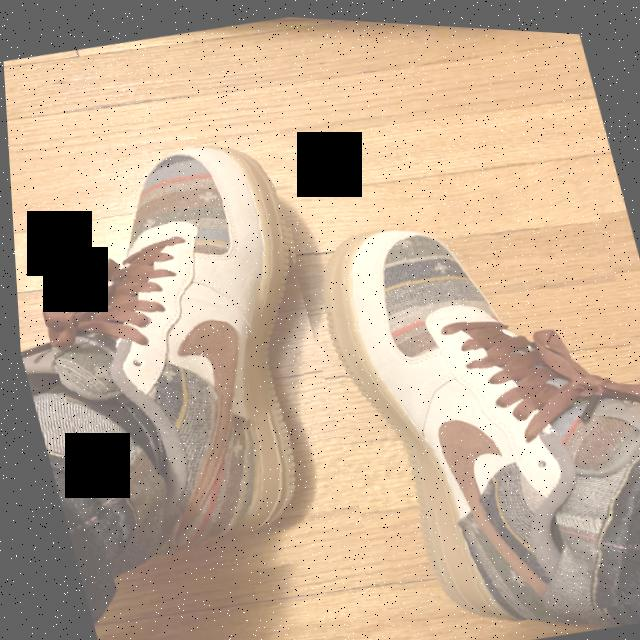shoe: (5, 113, 389, 608), (278, 159, 640, 640)
